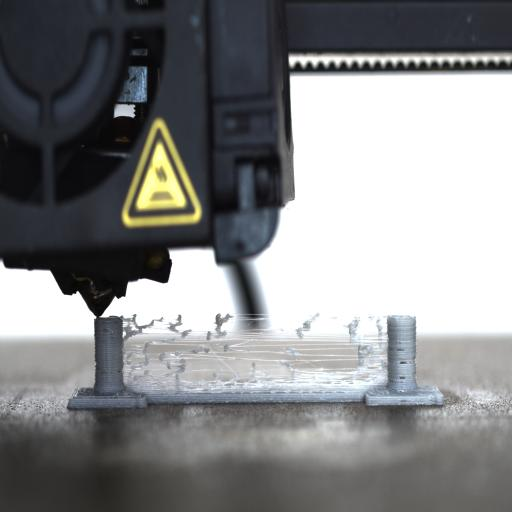stringing: (122, 310, 318, 388), (327, 312, 388, 386), (122, 316, 140, 338), (166, 314, 184, 334)
